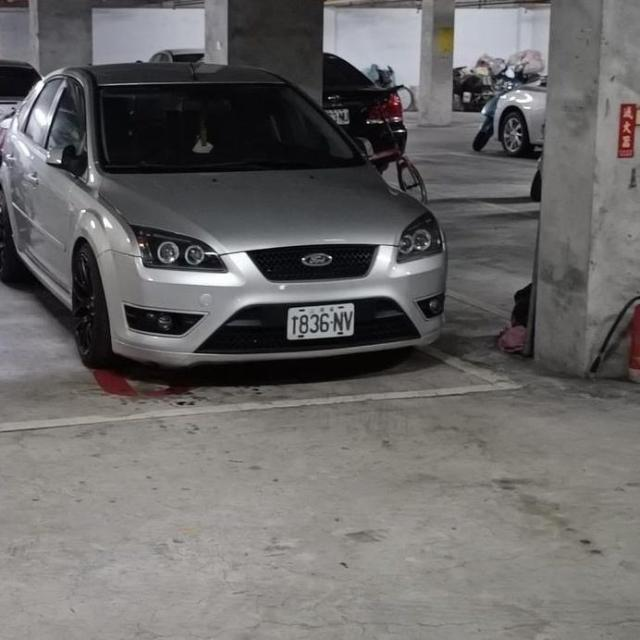W: (283, 293, 361, 346)
